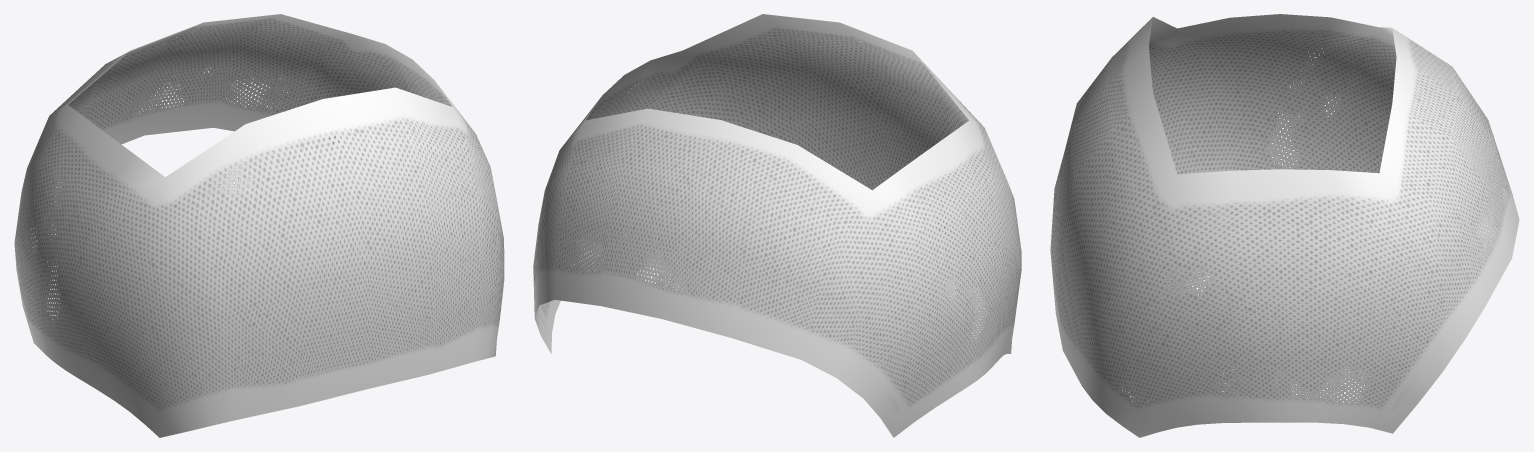
Rendered from surgery_paper_02.fbx.
3 renders of one model, left to right at view 1: azimuth 30°, elevation 25°; view 2: azimuth 150°, elevation 25°; view 3: azimuth 270°, elevation 25°, orthographic. The views are drawn at different scales.
Parts seen in each view (by area): view 1: surgery_paper_02; view 2: surgery_paper_02; view 3: surgery_paper_02.
Part boxes in pixels (x1,y1,x2,y2): surgery_paper_02: [14, 14, 504, 437]; surgery_paper_02: [533, 14, 1021, 437]; surgery_paper_02: [1050, 14, 1519, 437].
Bounding box in the file's own units: 287 × 197 × 273.
1 material, 1 textured.
